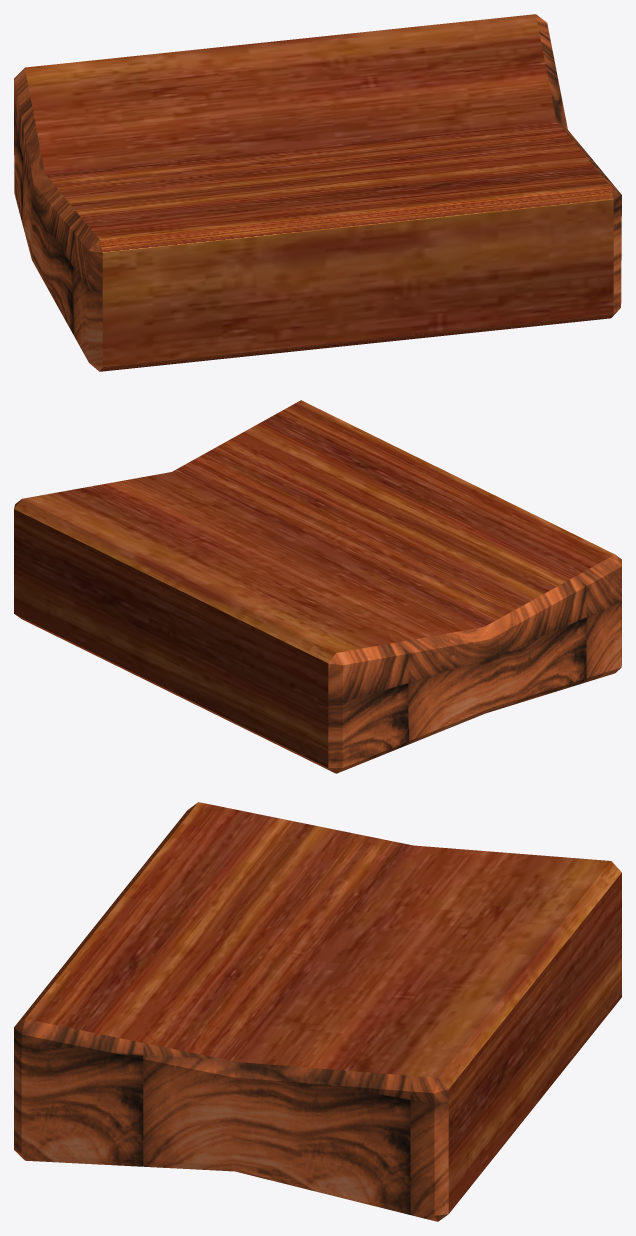
File: yuandeng_D_saizi_04.FBX
The picture shows the model from 3 angles, top to bottom: view 1: azimuth 30°, elevation 25°; view 2: azimuth 150°, elevation 25°; view 3: azimuth 270°, elevation 25°; orthographic projection. The views are drawn at different scales.
Visible parts, largest first — view 1: yuandeng_D_saizi_04; view 2: yuandeng_D_saizi_04; view 3: yuandeng_D_saizi_04.
Part boxes in pixels (bbox=[...]): yuandeng_D_saizi_04: bbox=[14, 14, 621, 371]; yuandeng_D_saizi_04: bbox=[14, 400, 621, 773]; yuandeng_D_saizi_04: bbox=[14, 802, 621, 1221].
Size of the model in its own units: 3.61 by 0.8667 by 3.13.
2 materials, 2 textured.
